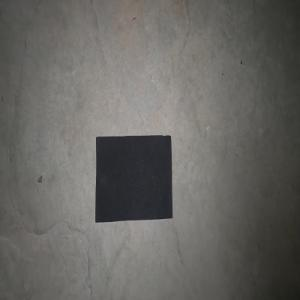PaintChip: (95, 134, 172, 222)
